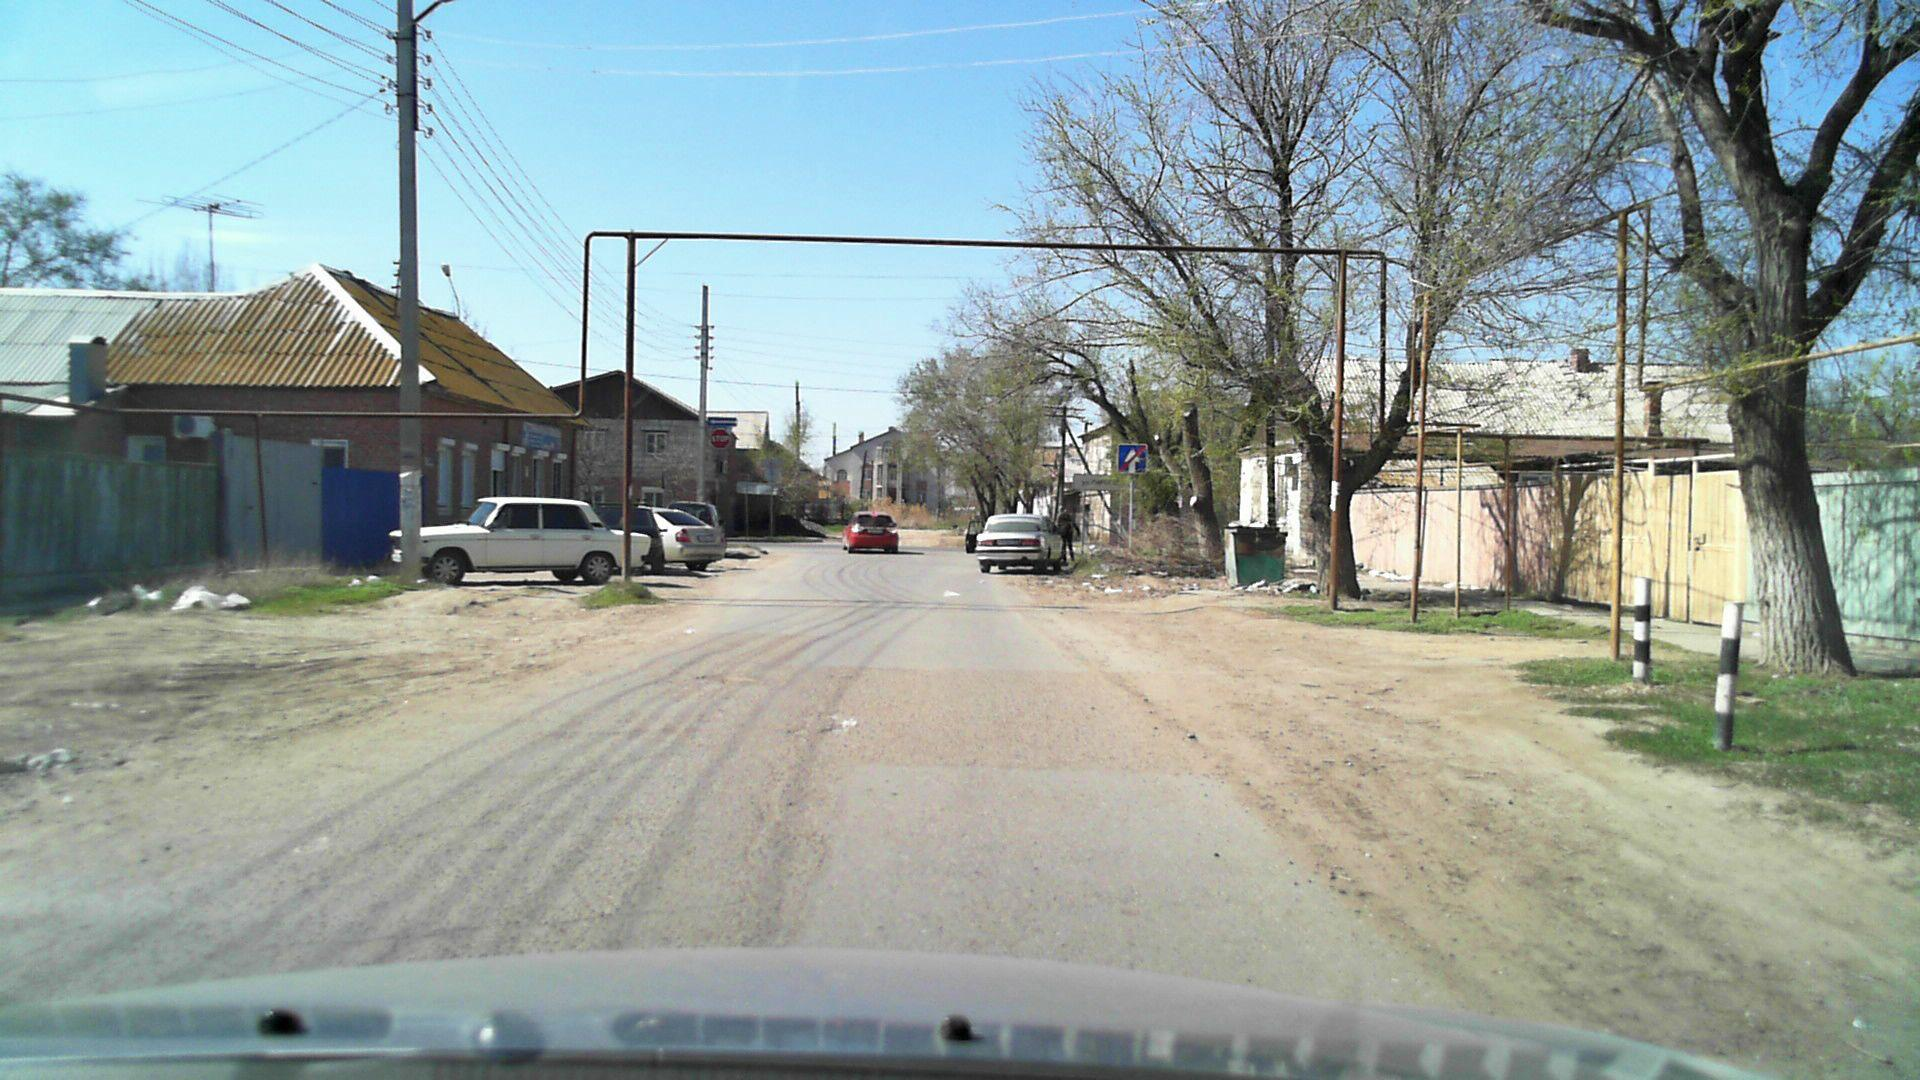2_5: (709, 429, 733, 448)
5_6: (1120, 444, 1149, 473)
5_7_2: (708, 417, 737, 426)
6_11: (1075, 473, 1133, 493)
